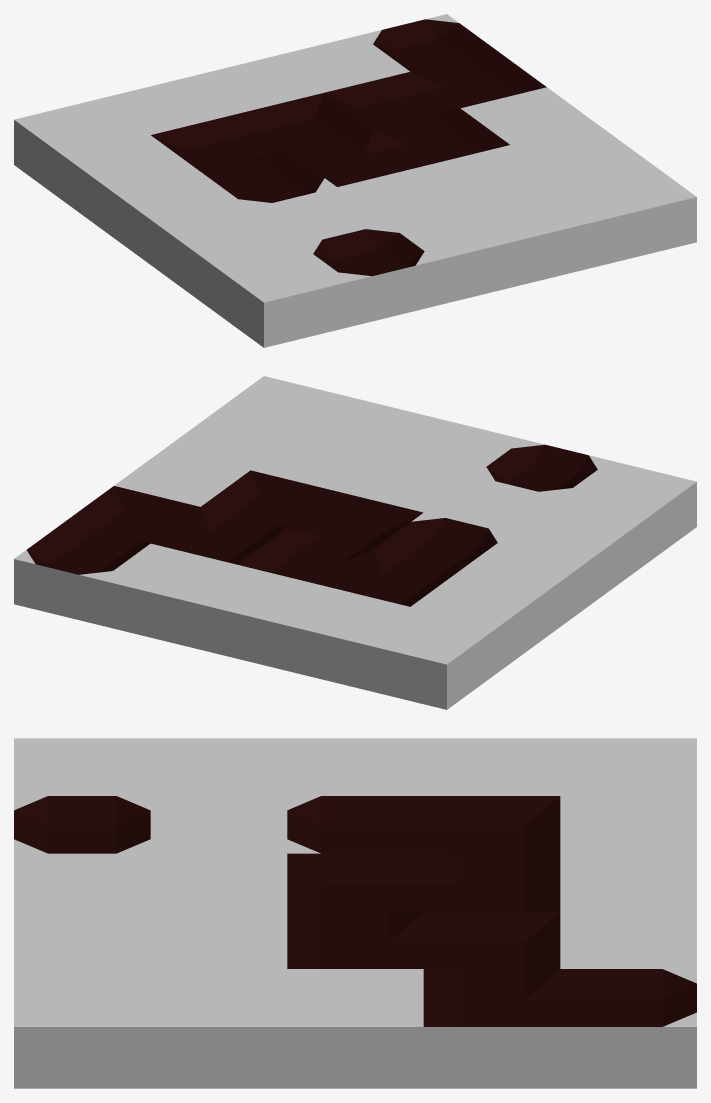
3 renders of one model, top to bottom at view 1: azimuth 30°, elevation 25°; view 2: azimuth 150°, elevation 25°; view 3: azimuth 270°, elevation 25°, orthographic. The views are drawn at different scales.
Parts seen in each view (by area): view 1: foil.block.0.0_block.120, foil.ending.1.2_ending.015; view 2: foil.block.0.0_block.120, foil.ending.1.2_ending.015; view 3: foil.block.0.0_block.120, foil.ending.1.2_ending.015.
Part boxes in pixels (left/top/right/bottom): foil.block.0.0_block.120: left=14, top=35, right=696, bottom=347; foil.ending.1.2_ending.015: left=151, top=14, right=546, bottom=208; foil.block.0.0_block.120: left=100, top=376, right=696, bottom=709; foil.ending.1.2_ending.015: left=14, top=470, right=509, bottom=625; foil.block.0.0_block.120: left=14, top=738, right=696, bottom=1088; foil.ending.1.2_ending.015: left=287, top=796, right=696, bottom=1088.
Bounding box in the file's own units: 10 × 1 × 10.
